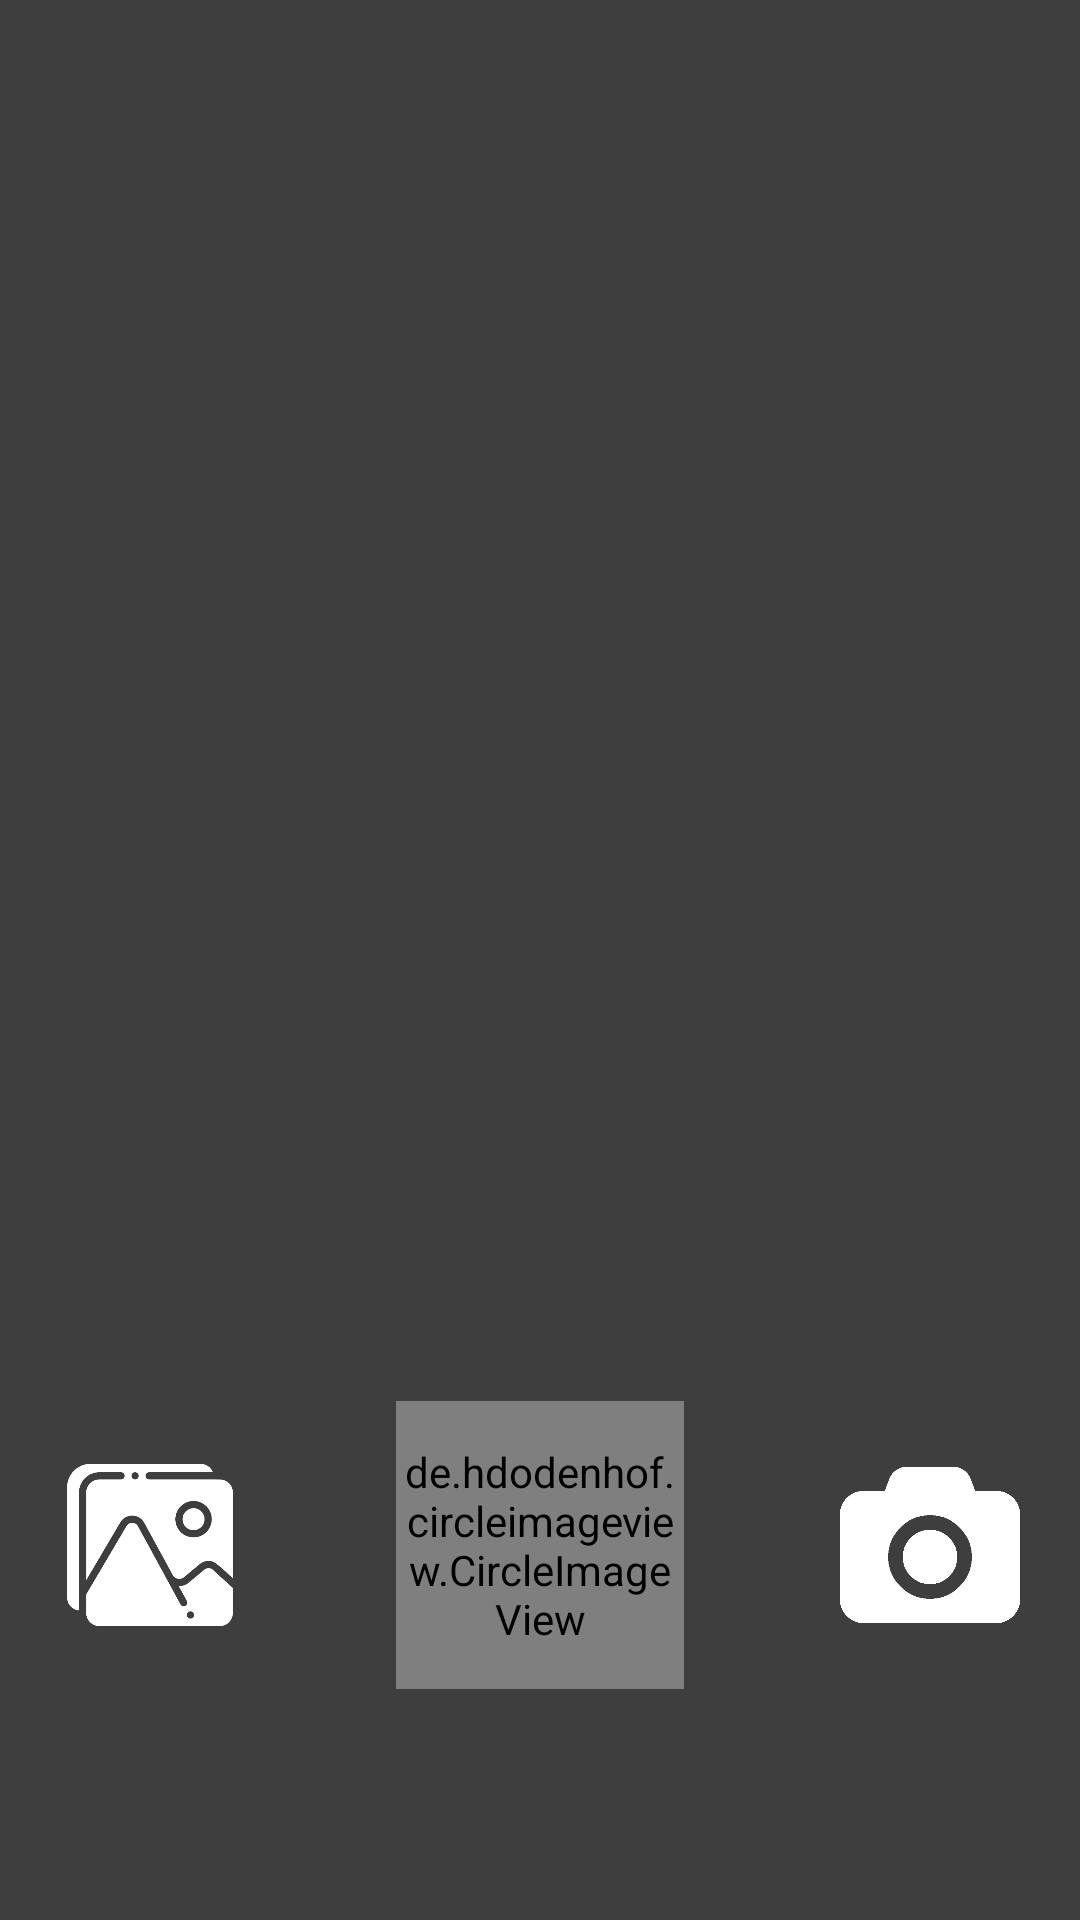

Locate icon controls on the screen. Image size 1080×1920, boxes as Rect(x1, y1, x2, y2).
camera: Rect(840, 1467, 1020, 1623)
gallery: Rect(67, 1464, 233, 1626)
